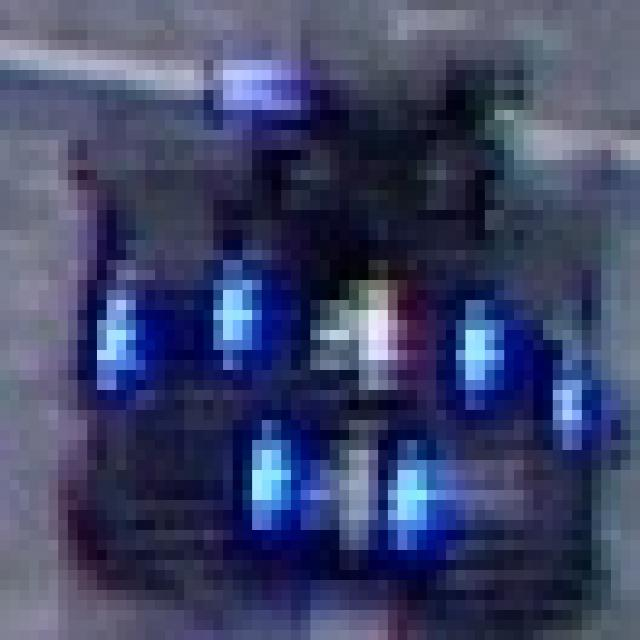B4: (233, 400, 436, 560)
